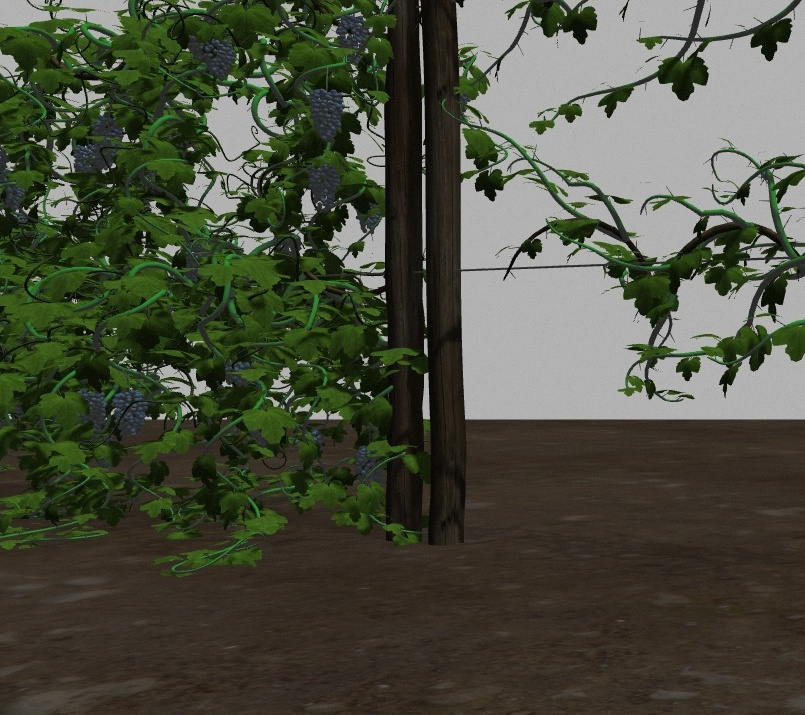grape: (307, 87, 345, 141), (335, 12, 372, 65), (304, 159, 342, 209), (196, 34, 237, 80), (91, 117, 126, 166), (112, 390, 149, 435), (83, 385, 109, 428), (351, 446, 375, 482), (3, 174, 25, 210), (71, 144, 95, 173)
